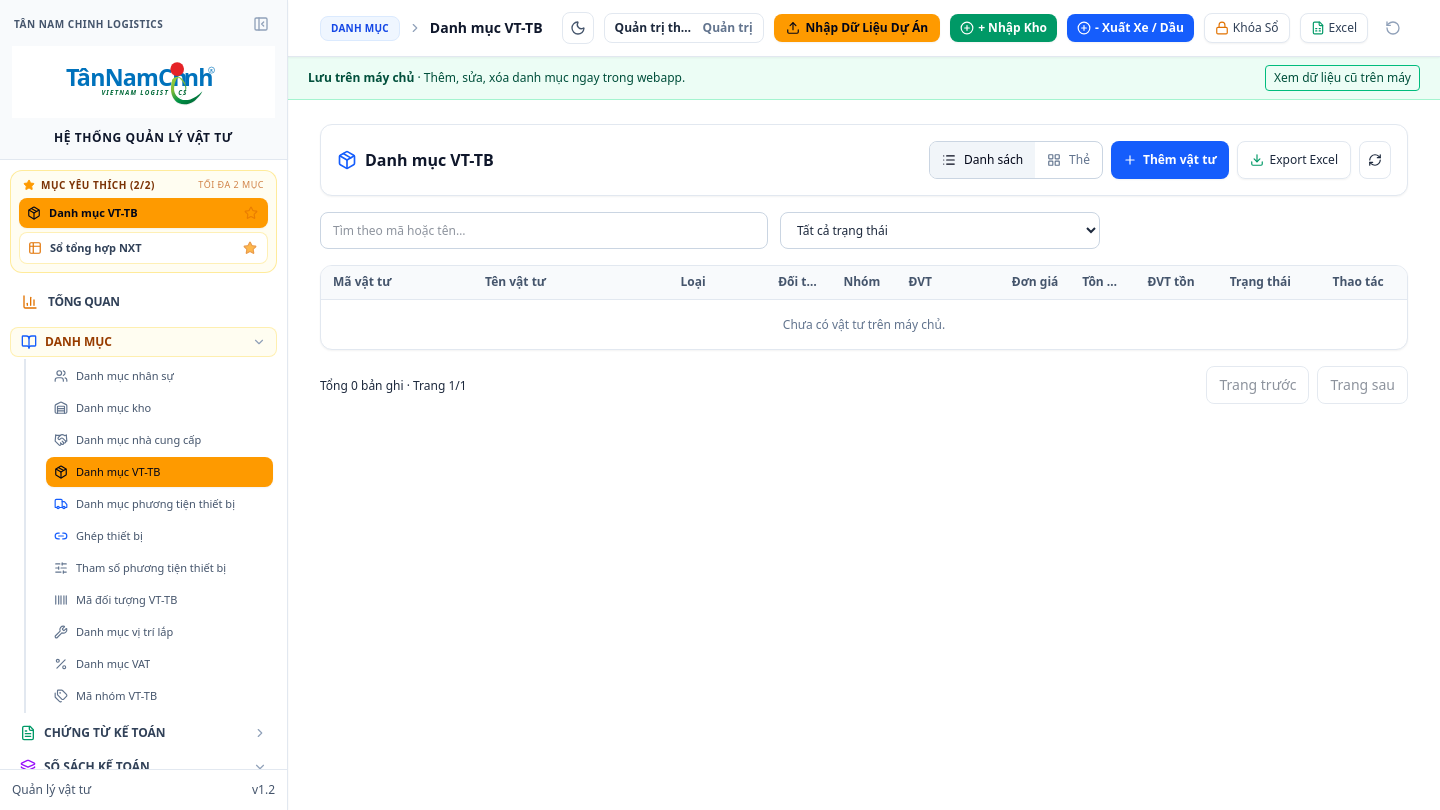
Test case: webapp opens personnel tree and retains unassigned personnel without local cache
The image size is (1440, 810).
Expected: the text "Chưa có vật tư trên máy chủ." is shown, left=321, top=299, right=1407, bottom=349
Click the text "Danh mục nhân sự" at (125, 376), box left=76, top=368, right=174, bottom=383
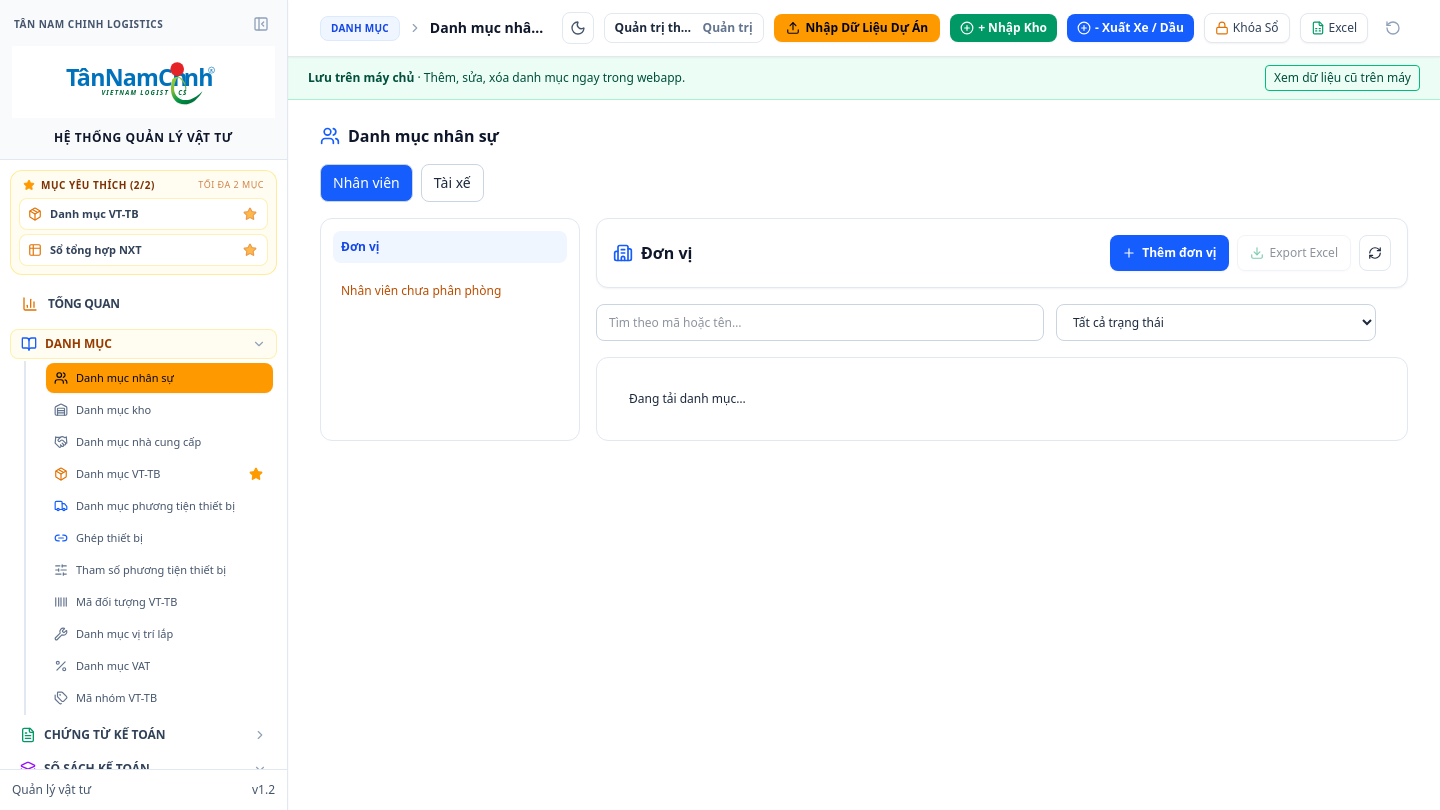
Expected: the element named "Cây nhân sự" is shown, left=320, top=218, right=580, bottom=441
Click the button "Nhân viên chưa phân phòng" at (421, 291), box left=333, top=275, right=509, bottom=307
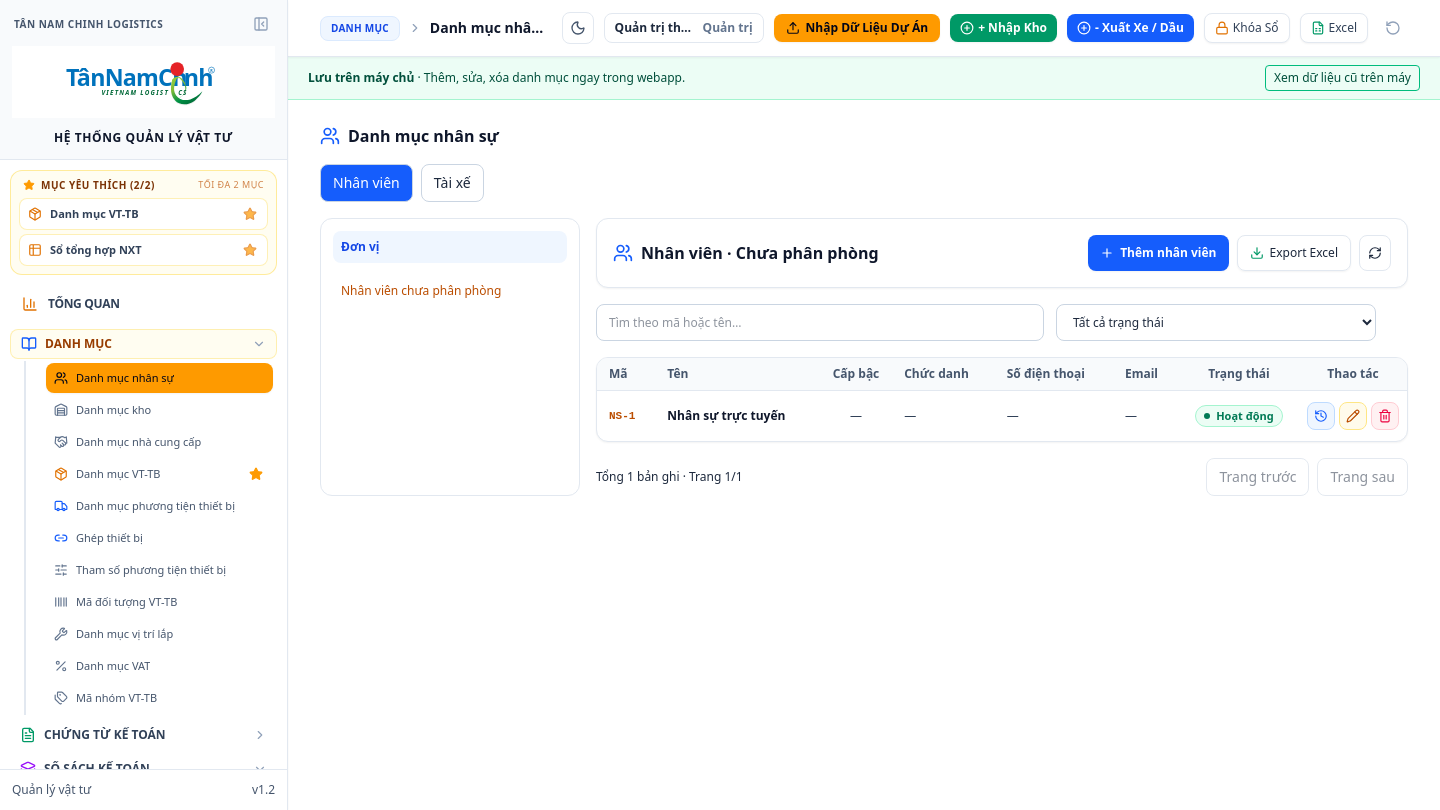
Expected: the text "Nhân sự trực tuyến" is shown, left=655, top=390, right=820, bottom=440
